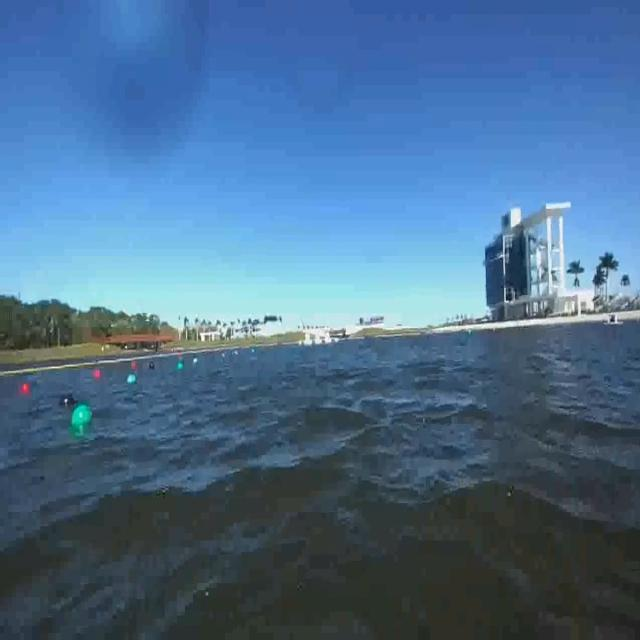black-buoy: (60, 392, 75, 407), (148, 359, 156, 372)
green-buoy: (72, 405, 91, 430), (129, 371, 139, 385), (177, 361, 185, 372)
red-buoy: (92, 368, 102, 382), (20, 380, 29, 392)
